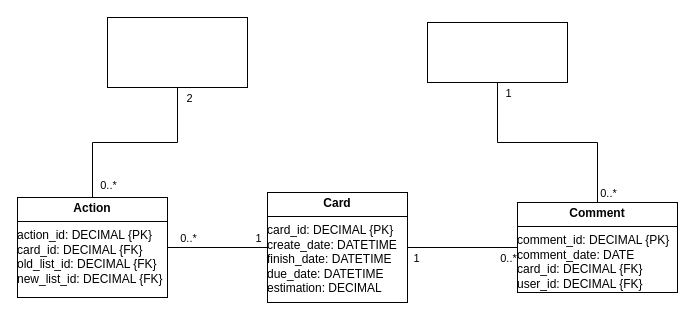
This 695x320 diagram has some shape labels left out. The shapes that lost their labels are listed below. From the top down, each one's box as (x1, y1, x2, y2) in pixels, then its label:
(106, 16, 248, 88): List list_id: DECIMAL {PK} list_name: VARCHAR
(426, 22, 568, 82): User user_id: DECIMAL {PK}
